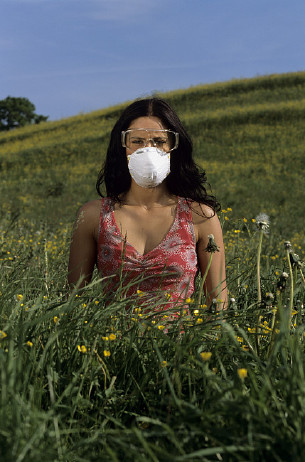face_mask: (126, 120, 169, 187)
